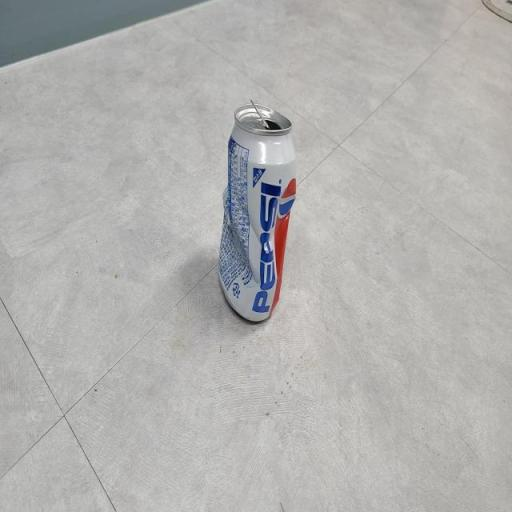metal: (208, 82, 309, 346)
